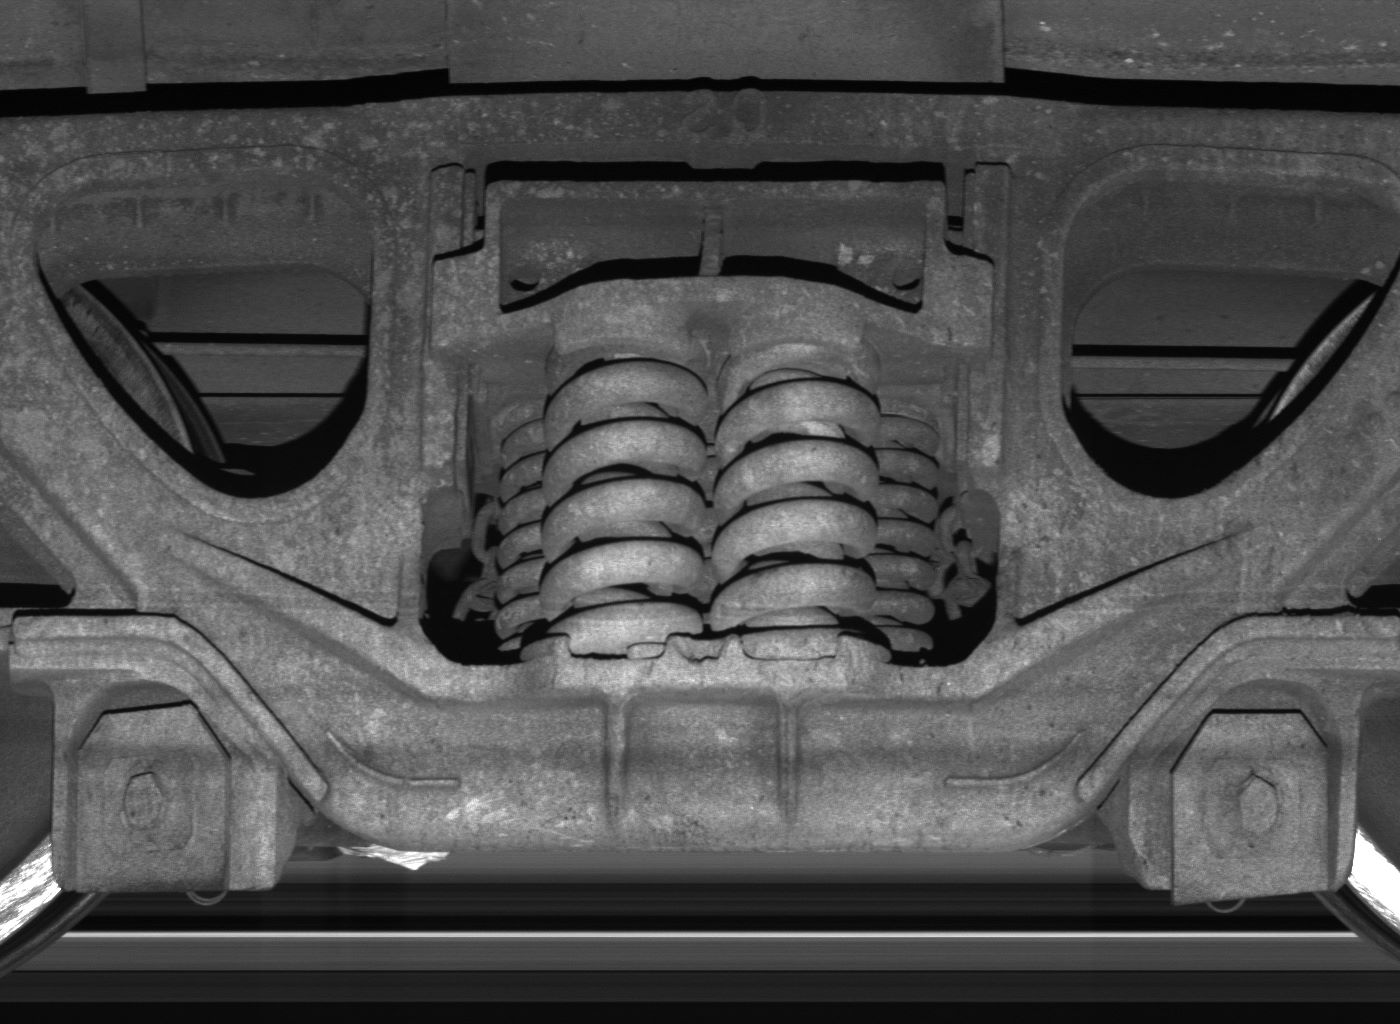Locking plate: (1125, 680, 1360, 907)
normal: (52, 678, 275, 891)
